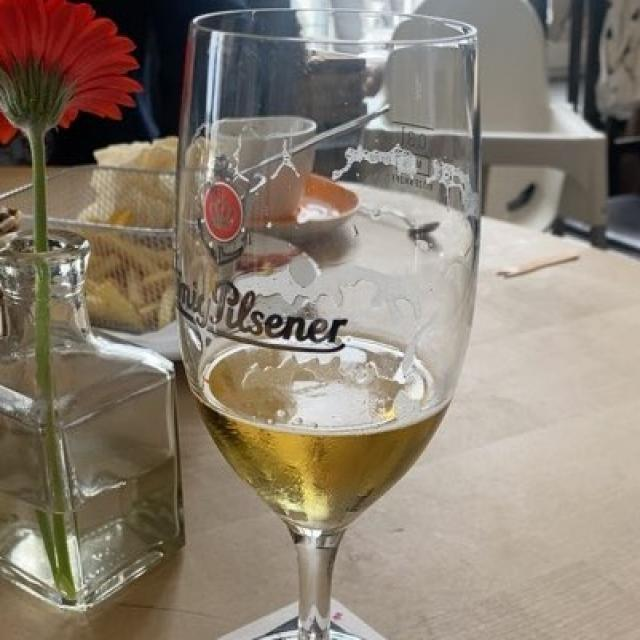beer: (192, 341, 442, 528)
